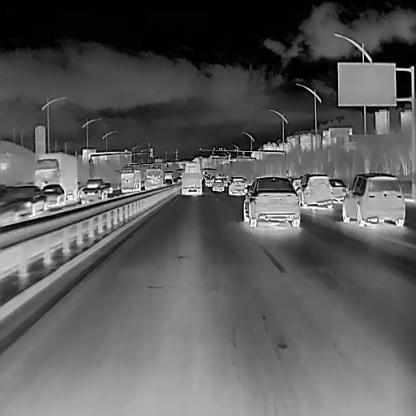car: (340, 170, 406, 227), (241, 176, 300, 225), (295, 172, 333, 209), (10, 183, 44, 215), (80, 176, 108, 204), (38, 181, 66, 206), (328, 177, 347, 201), (228, 175, 248, 195), (209, 180, 224, 192), (104, 182, 113, 194), (204, 177, 212, 186)
truck: (33, 151, 77, 189), (180, 162, 204, 194), (119, 165, 141, 193), (144, 168, 163, 191), (162, 169, 174, 186)
